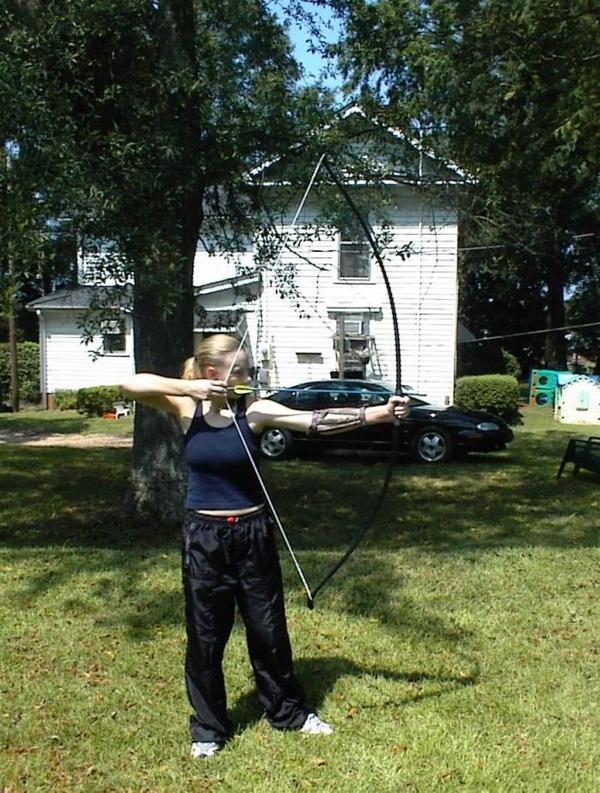person: (117, 324, 410, 764)
